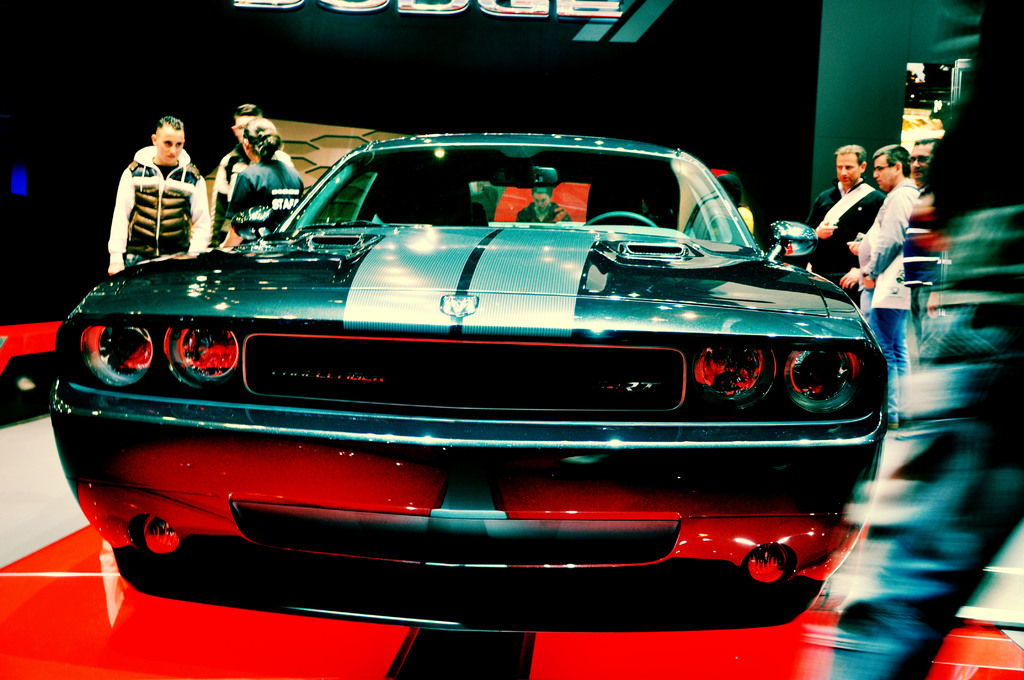Person: (107, 0, 1023, 680)
